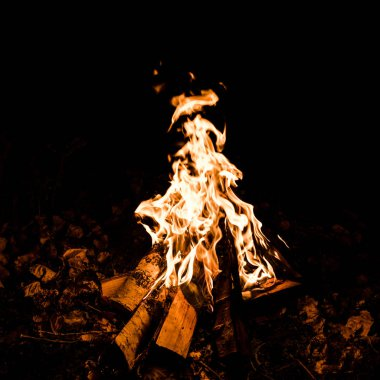fire: (142, 69, 274, 302)
